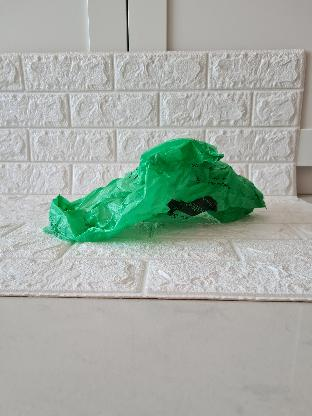Plastic Bag: (46, 136, 268, 244)
